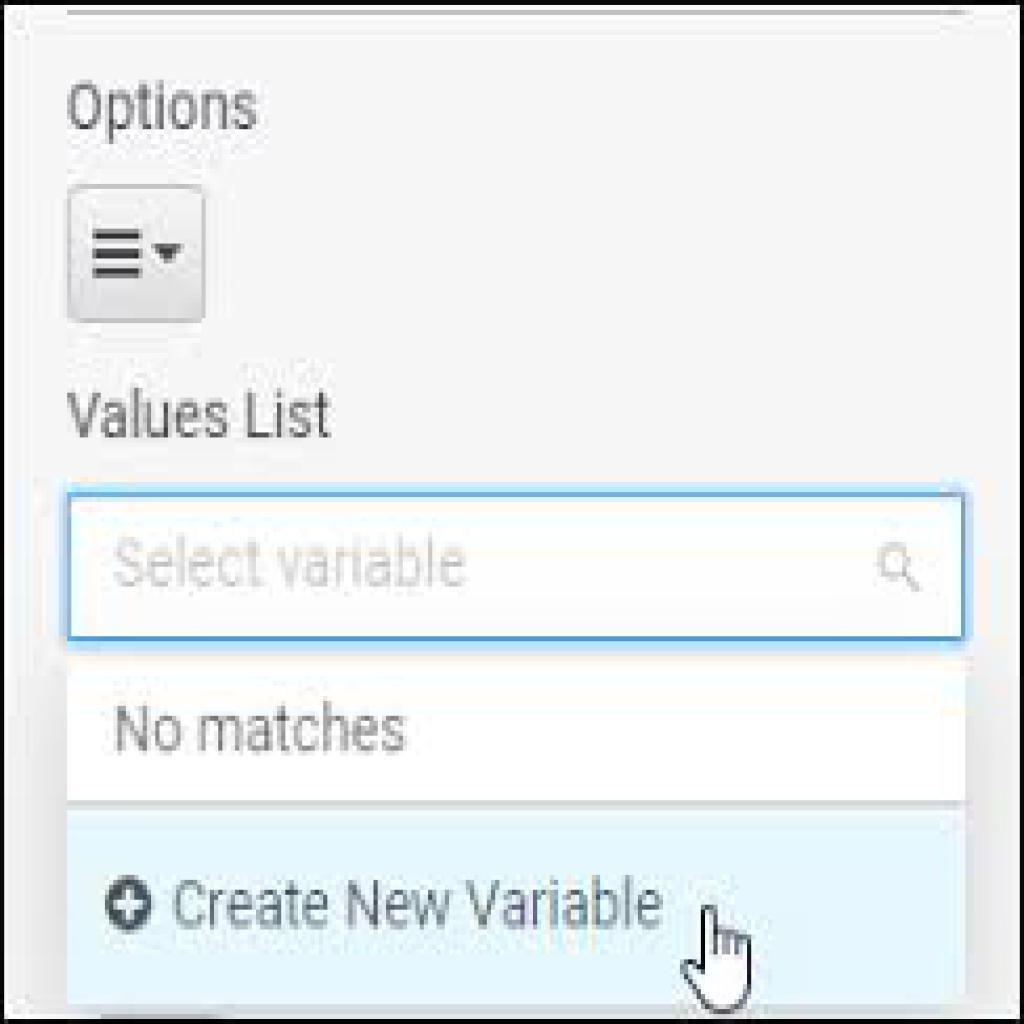icon: (82, 220, 151, 292), (101, 872, 154, 936)
input: (69, 499, 962, 637)
label: (59, 380, 338, 456), (60, 74, 268, 139)
